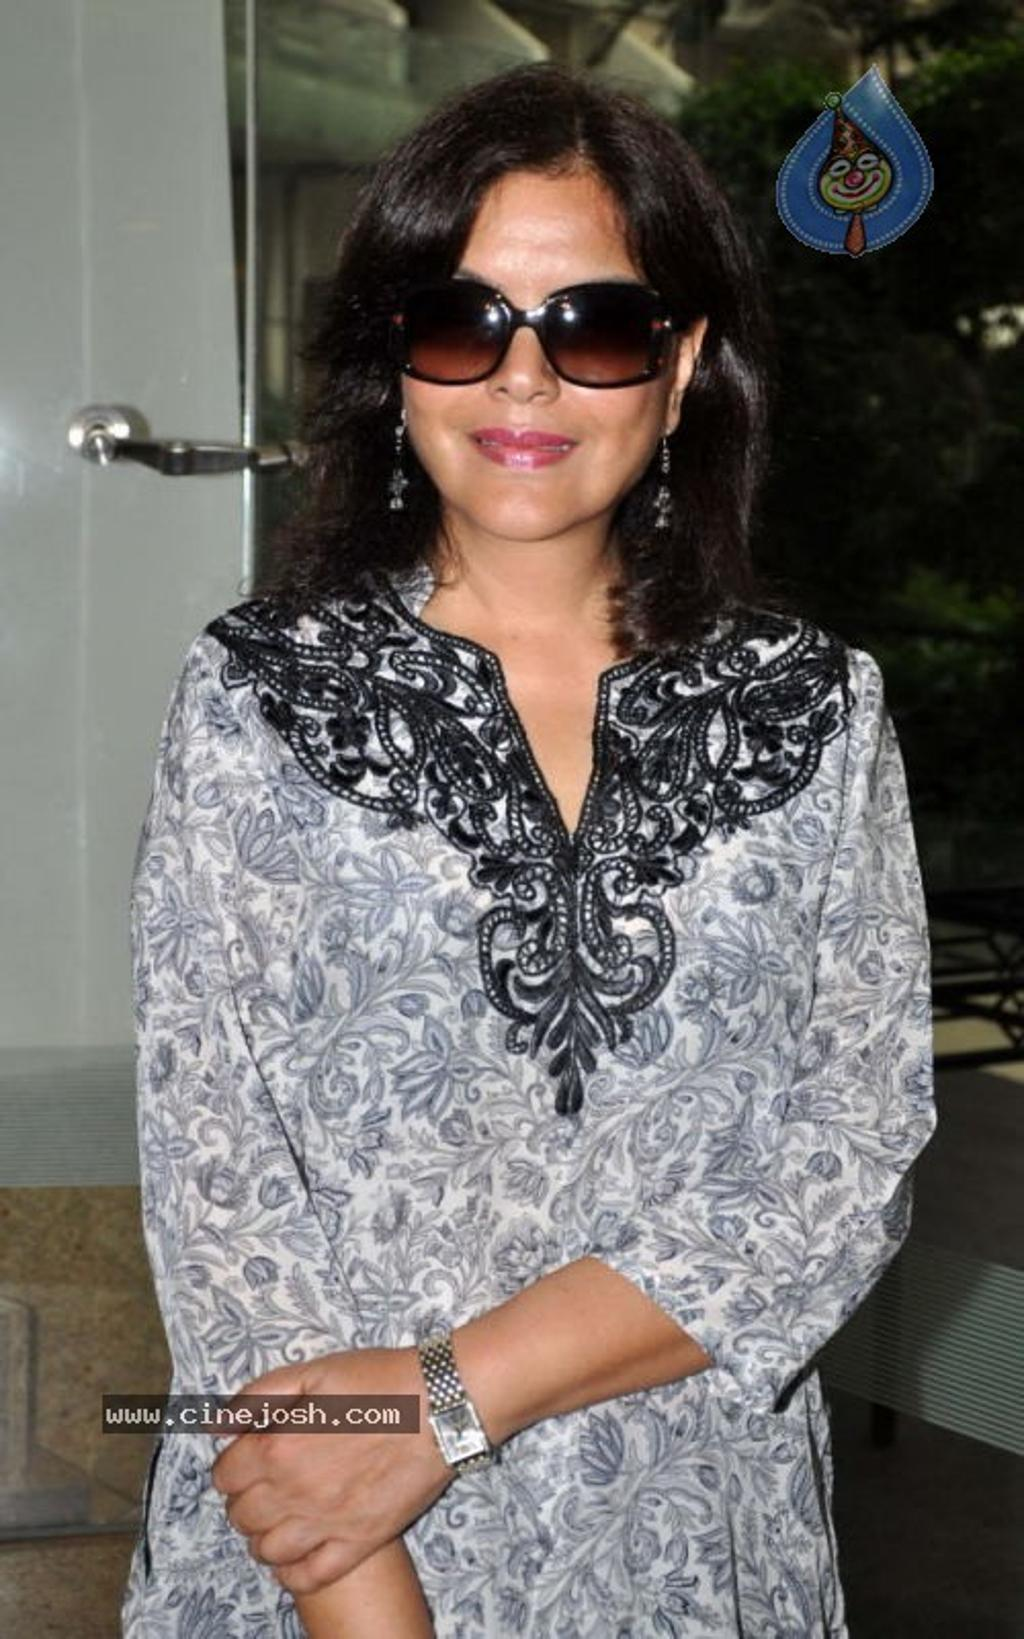face: (410, 176, 672, 538)
